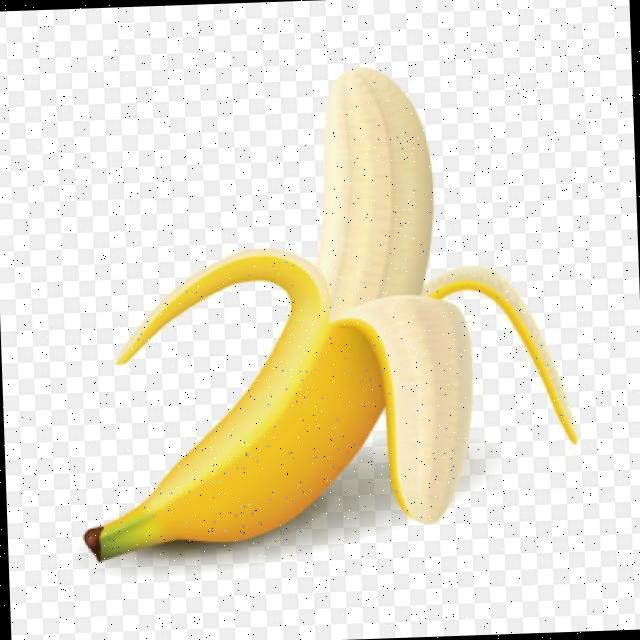banana-peel: (65, 58, 581, 562)
